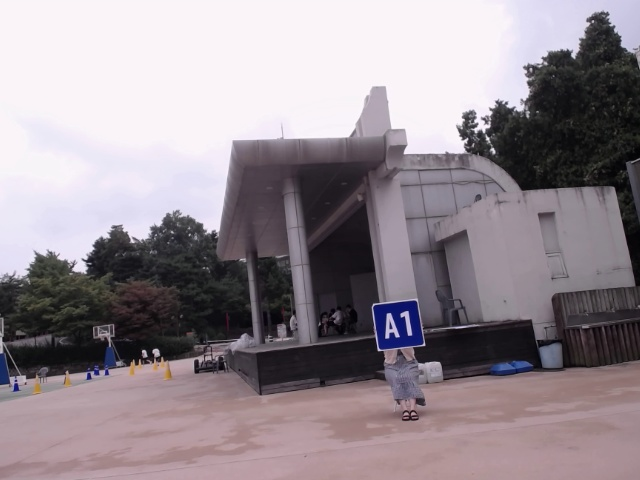delivery_a1: (372, 300, 425, 351)
